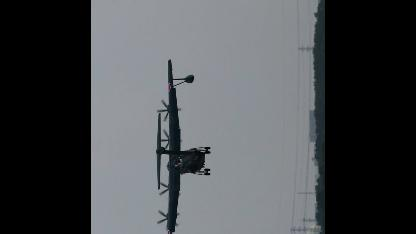Tu95: (156, 57, 211, 233)
